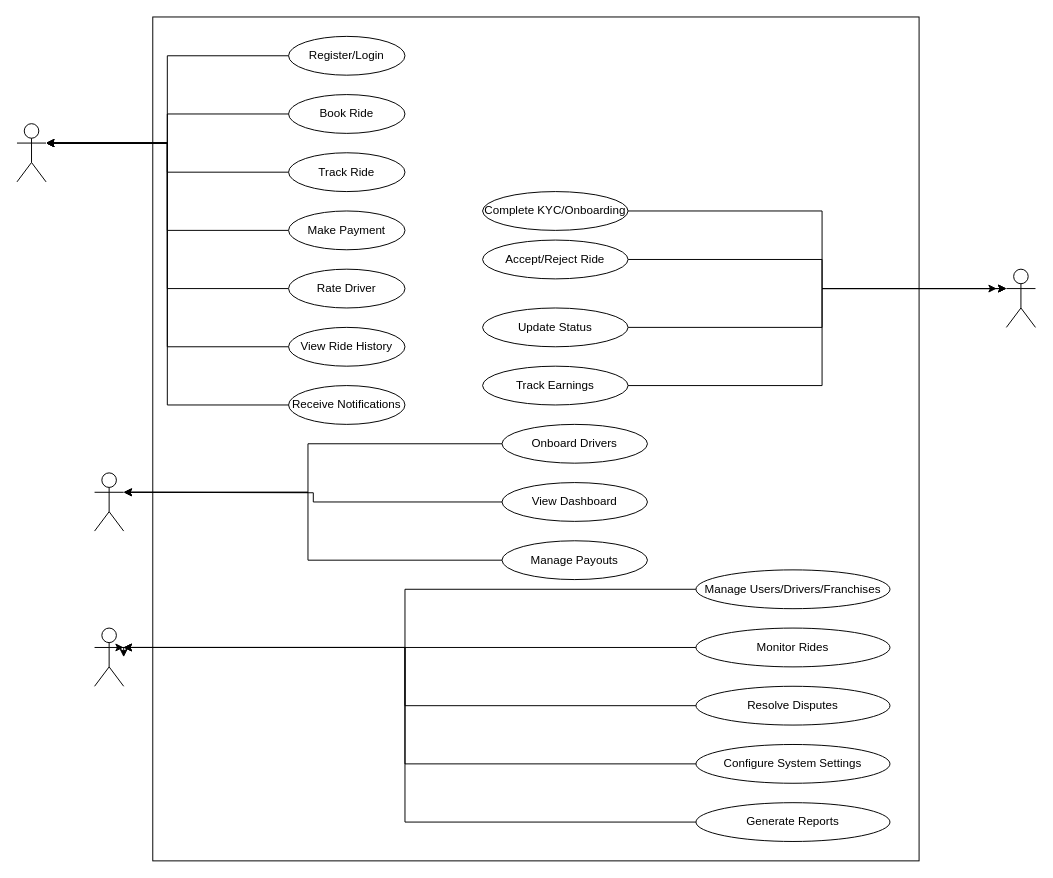
This 1053x878 diagram has some shape labels left out. The centre of each missing label's shape, as x and y in pixels:
"Admin" goes at (109,656).
"Driver" goes at (1020,297).
"Franchise" goes at (109,501).
"Rider" goes at (31,152).
